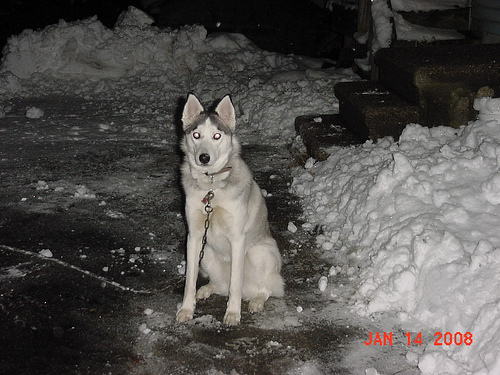dog: (174, 92, 286, 332)
